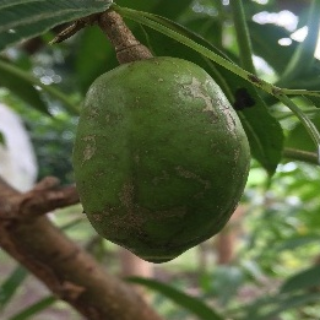coc: (70, 56, 253, 265)
